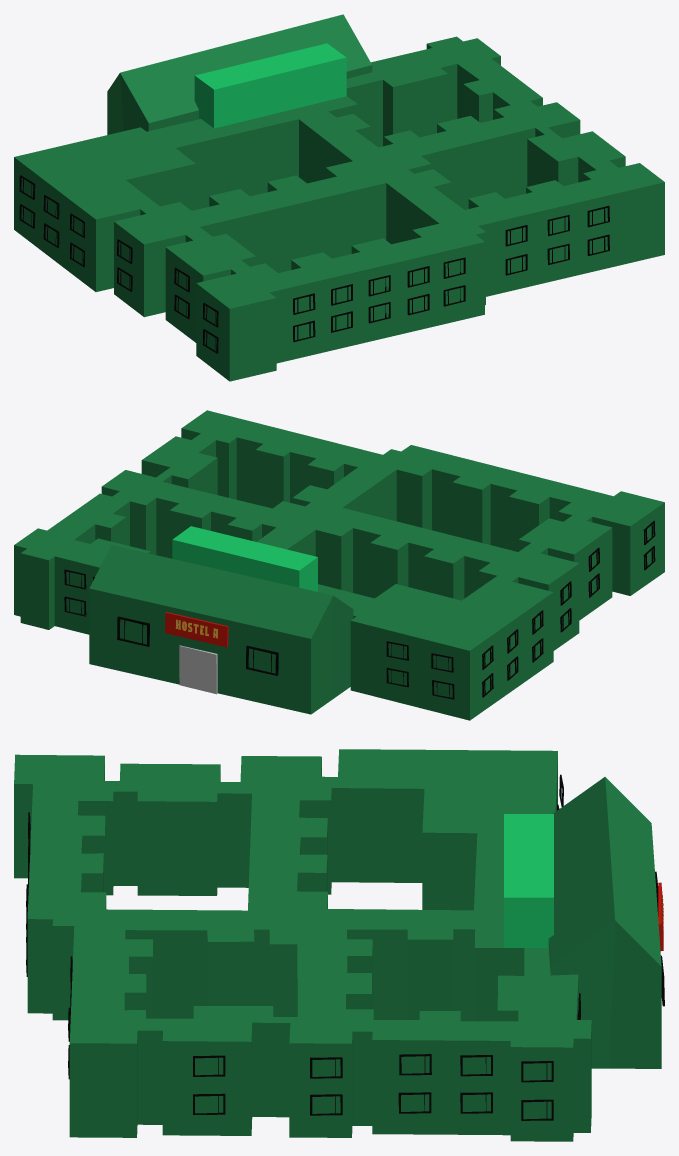
The model's file is Hostel_A.obj.
The picture shows the model from 3 angles, top to bottom: view 1: azimuth 30°, elevation 25°; view 2: azimuth 150°, elevation 25°; view 3: azimuth 270°, elevation 25°; orthographic projection. The views are drawn at different scales.
Parts seen in each view (by area): view 1: Hostel_A_Hostel_A.002; view 2: Hostel_A_Hostel_A.002; view 3: Hostel_A_Hostel_A.002.
Boxes of the visible parts, x1,y1,x2,y2 form: Hostel_A_Hostel_A.002: (14,14,664,381); Hostel_A_Hostel_A.002: (14,410,664,720); Hostel_A_Hostel_A.002: (14,749,664,1141).
Bounding box in the file's own units: 3.54 × 0.8061 × 3.23.
